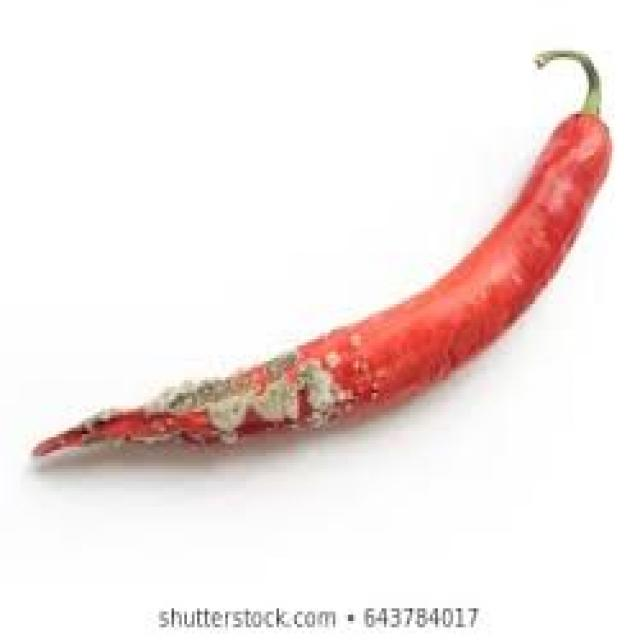organic waste: (28, 48, 609, 453)
